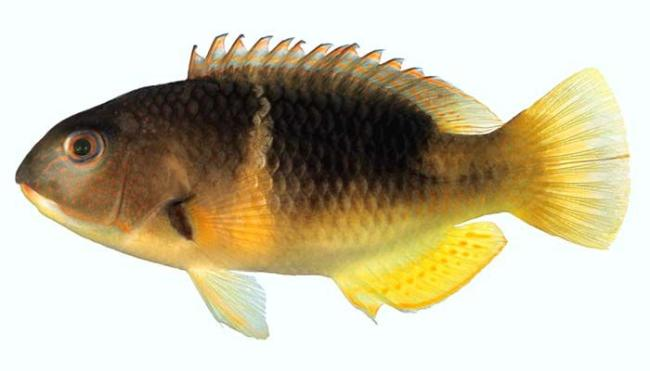fish: (15, 34, 631, 339)
